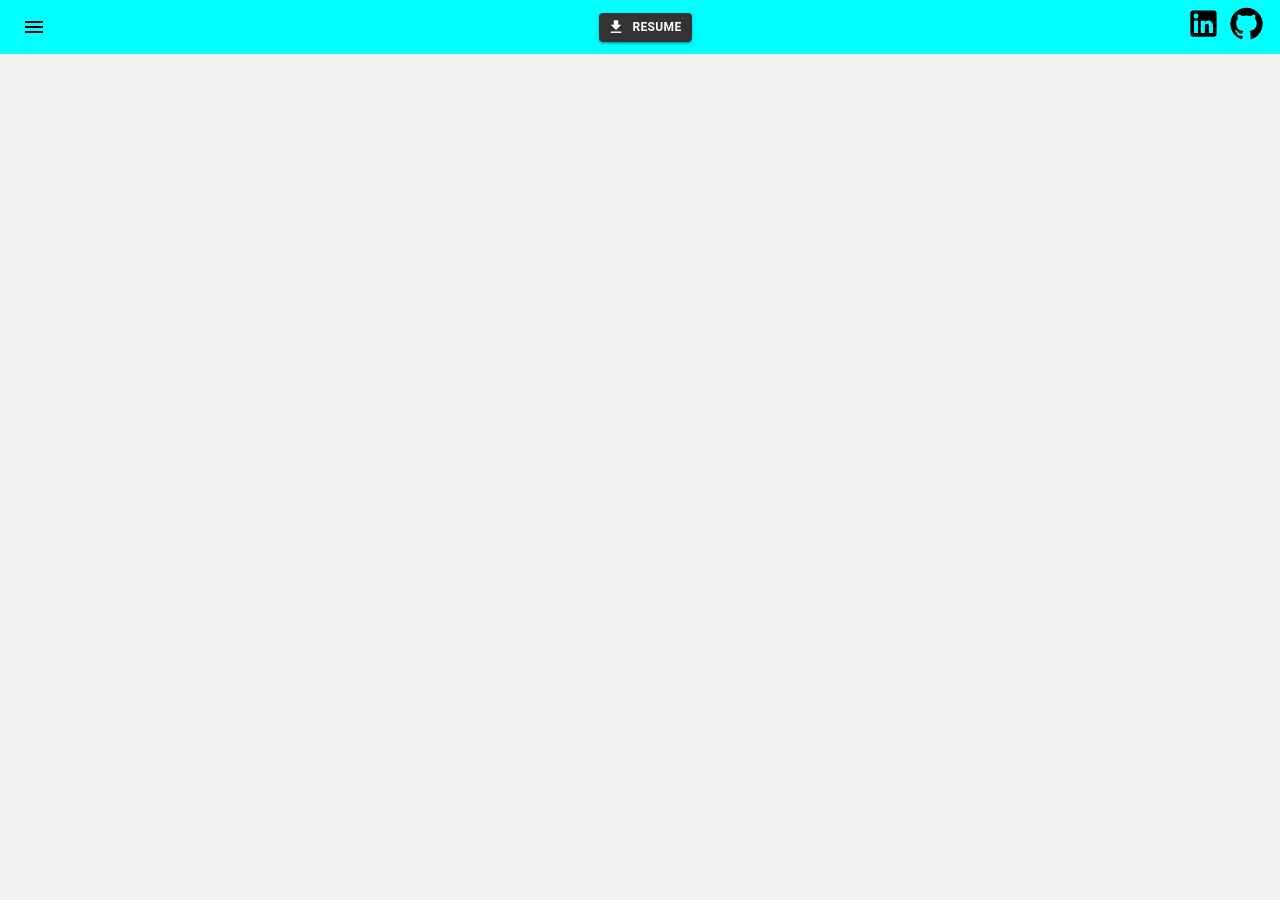
Test: ProgrammerNavbar Mobile › opens and closes the mobile drawer menu
What coordinates should you click on to do the following:
click the button named "open programmer navigation menu"
I would click on:
 (34, 27)
Its box is [16,9,52,45].
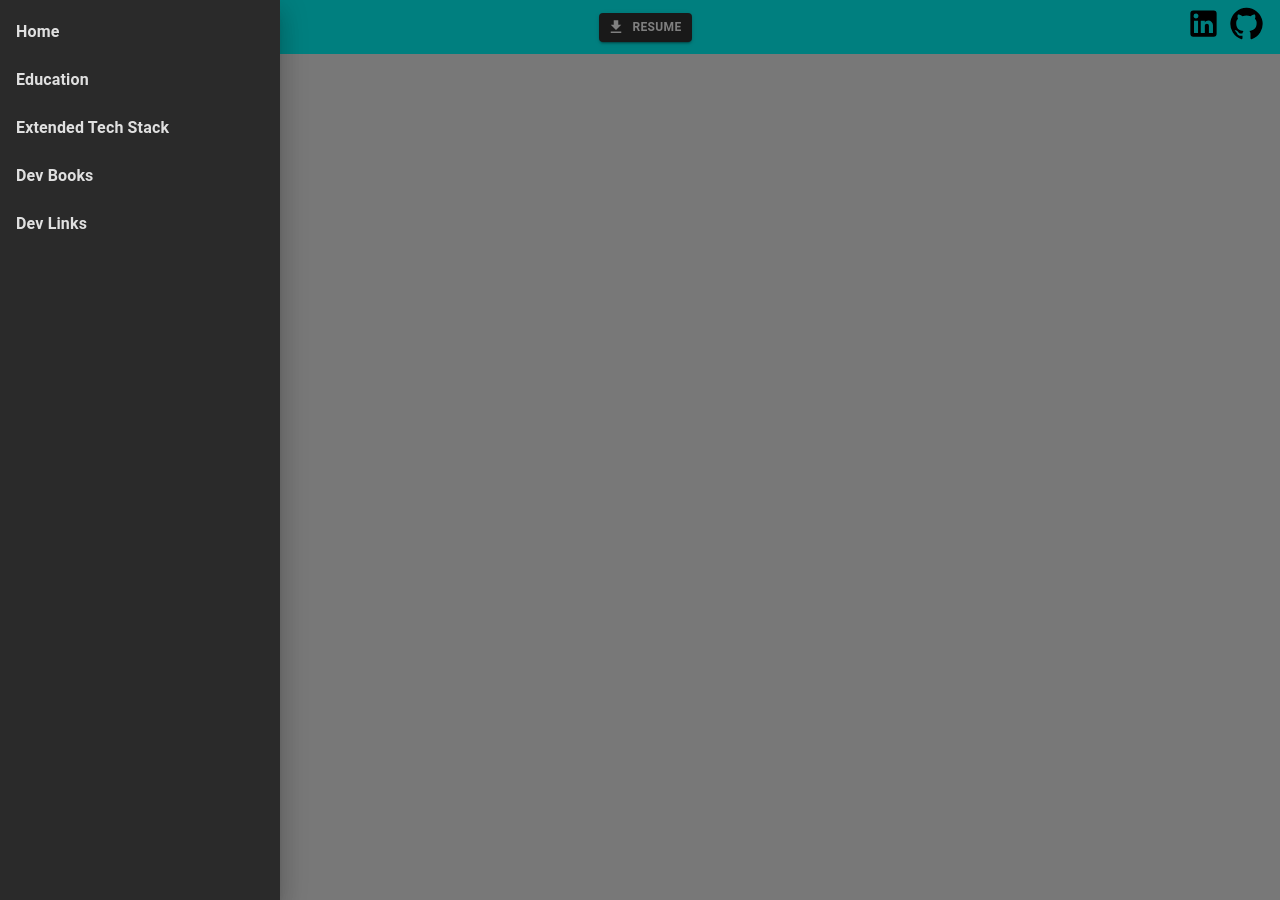
Result: the text "Home" is shown at [16,22,60,41]
Result: the text "Extended Tech Stack" is shown at [16,118,169,137]
What coordinates should you click on to do the following:
click the element showing "Home Education Extended Tech Stack Dev Books Dev Links"
I would click on:
 (93, 128)
Its box is [16,22,169,233].
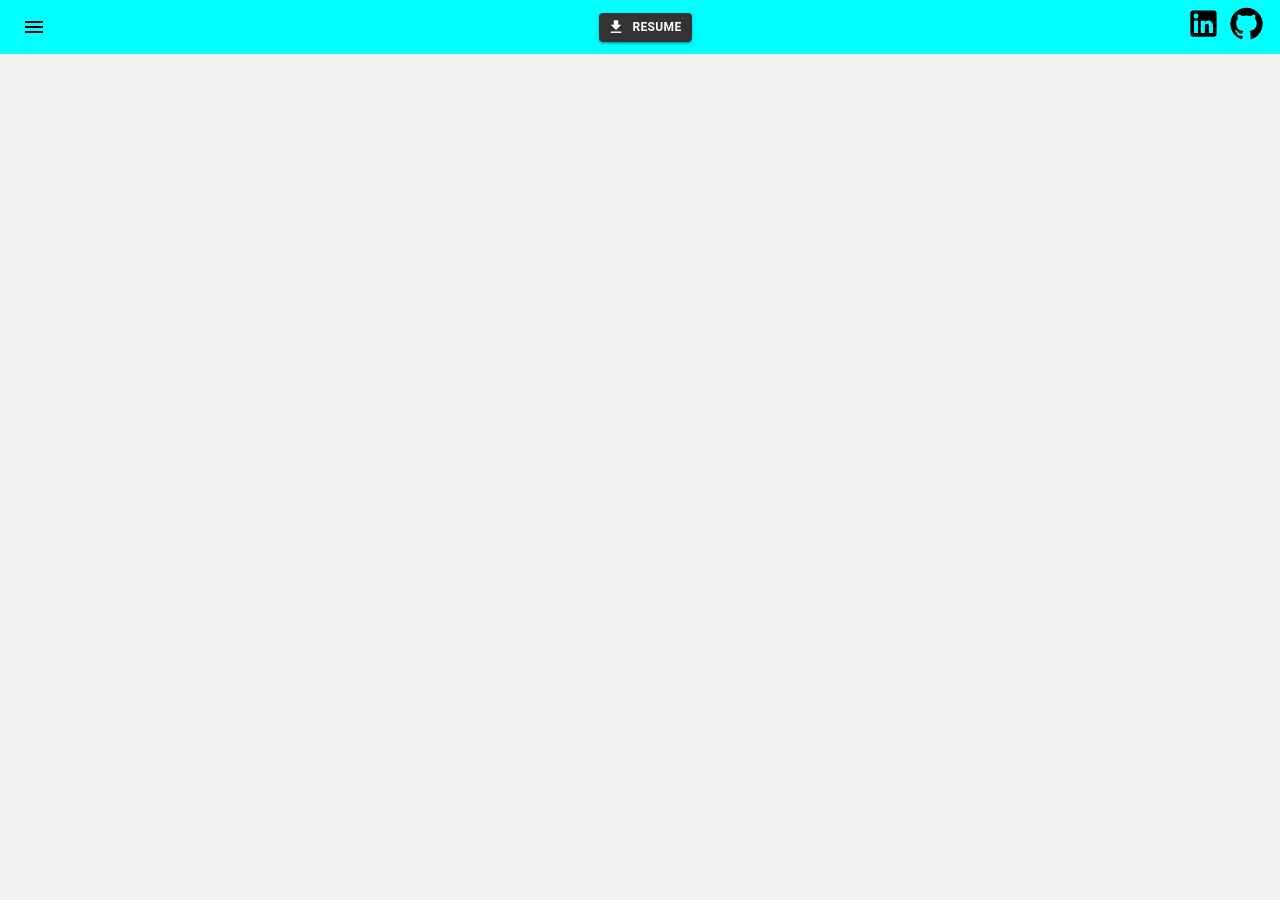
Result: the link "Extended Tech Stack" is gone
